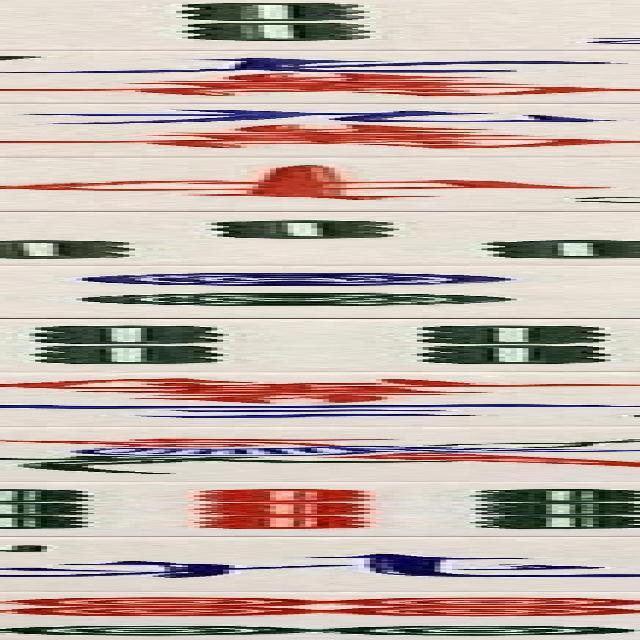hdr: (0, 156, 640, 210)
hwn: (0, 537, 640, 589)
sb1: (0, 428, 640, 479)
sb2: (0, 0, 640, 50)
sb3: (0, 213, 640, 264)
sb9: (0, 482, 640, 534)
sc3: (0, 374, 640, 424)
sc7: (0, 52, 640, 101)
sc9: (0, 104, 640, 154)
sd2: (0, 266, 640, 318)
sd4: (0, 319, 640, 372)
sd6: (0, 590, 640, 640)
